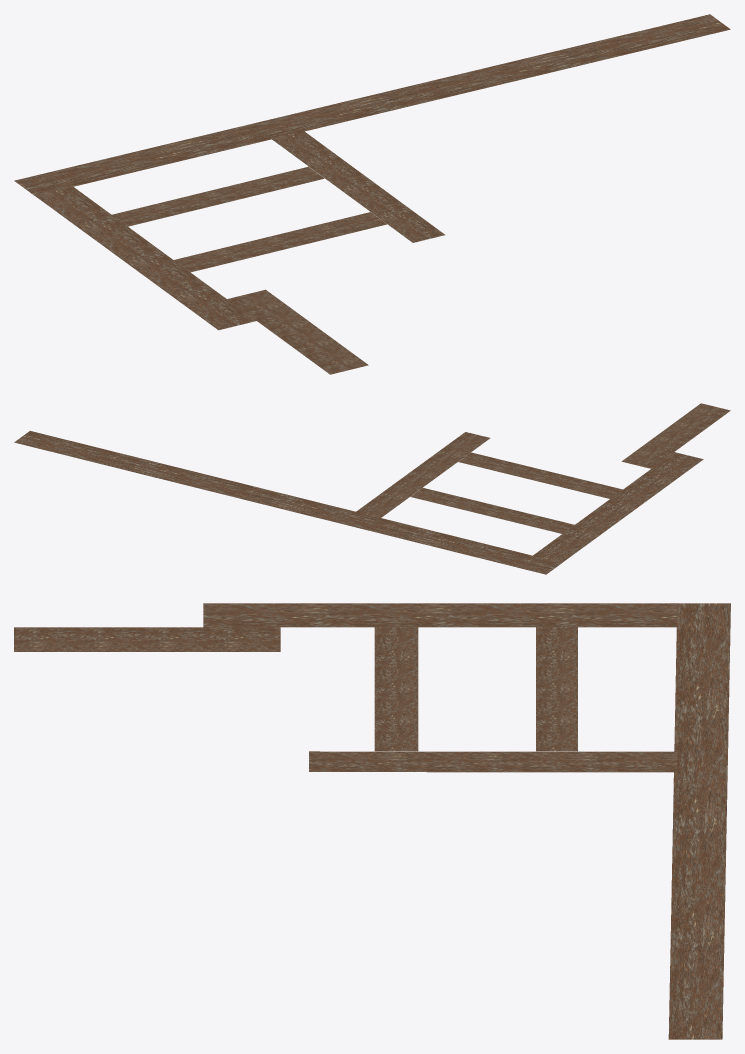
The model's file is CHANGES (road2).fbx.
3 views of the same model, one above another, from view 1: azimuth 30°, elevation 25°; view 2: azimuth 150°, elevation 25°; view 3: azimuth 270°, elevation 25° (orthographic). The views are drawn at different scales.
Parts seen in each view (by area): view 1: road.001; view 2: road.001; view 3: road.001.
Boxes of the visible parts, bbox=[...] form: road.001: bbox=[14, 14, 730, 374]; road.001: bbox=[14, 403, 730, 574]; road.001: bbox=[14, 603, 730, 1039].
Bounding box in the file's own units: 36099 × 10.91 × 25070.
1 material, 1 textured.
